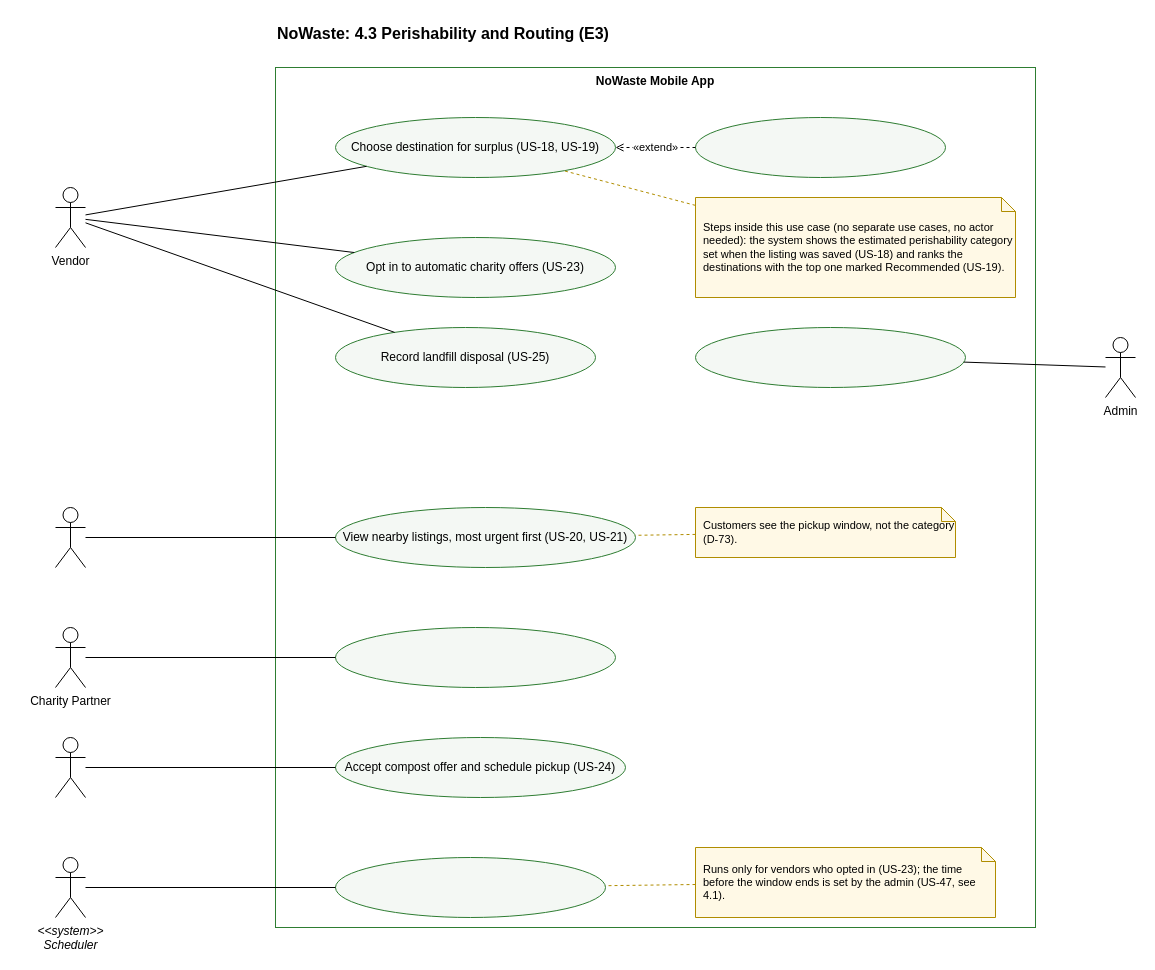
Some shapes in this 1155 by 970 pixel diagram are drawn without their labels. Here are the shapes that lost their labels. From the top down, the centre of each, then its label:
At point (820, 147): "Mark food unfit for people (US-19)".
At point (830, 357): "Manage perishability rules (US-46, see 4.1)".
At point (70, 537): "Consumer".
At point (475, 657): "Accept donation and schedule pickup (US-22)".
At point (70, 767): "Composting Partner".
At point (470, 887): "Offer unreserved bags to charity (US-23)".
